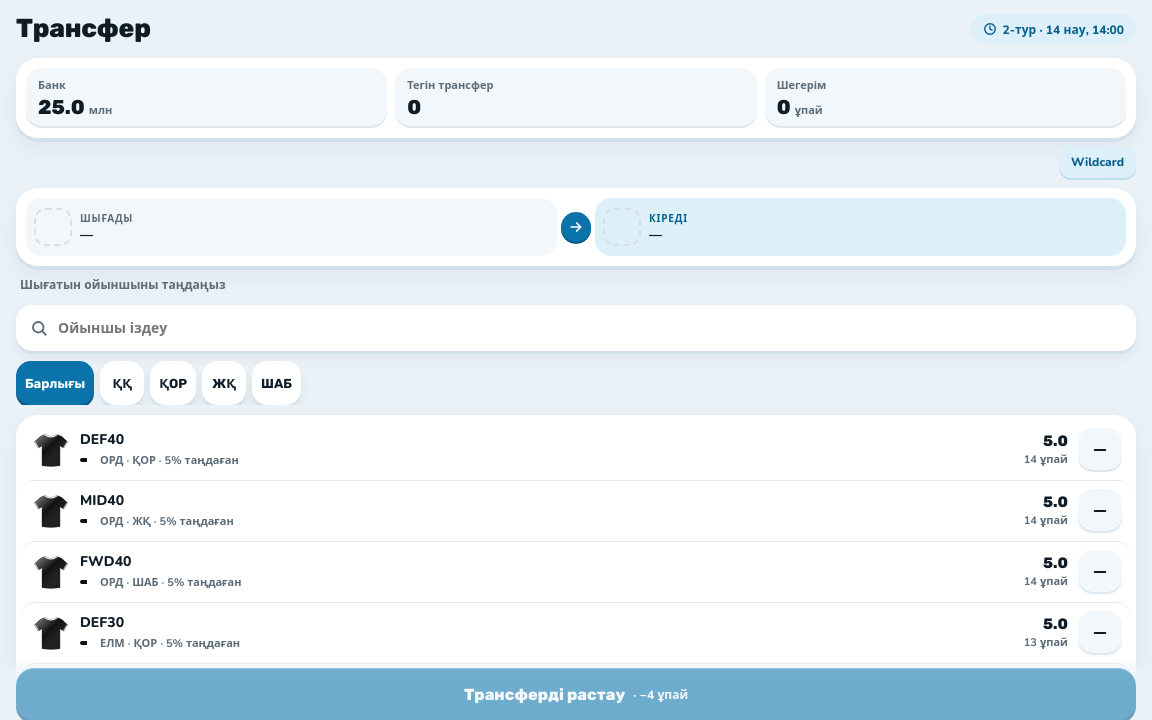
Transfer › Wildcard: «Жоқ» в подтверждении оставляет его выключенным
Click the button "Wildcard": [1097, 162] box [1059,146,1136,178]
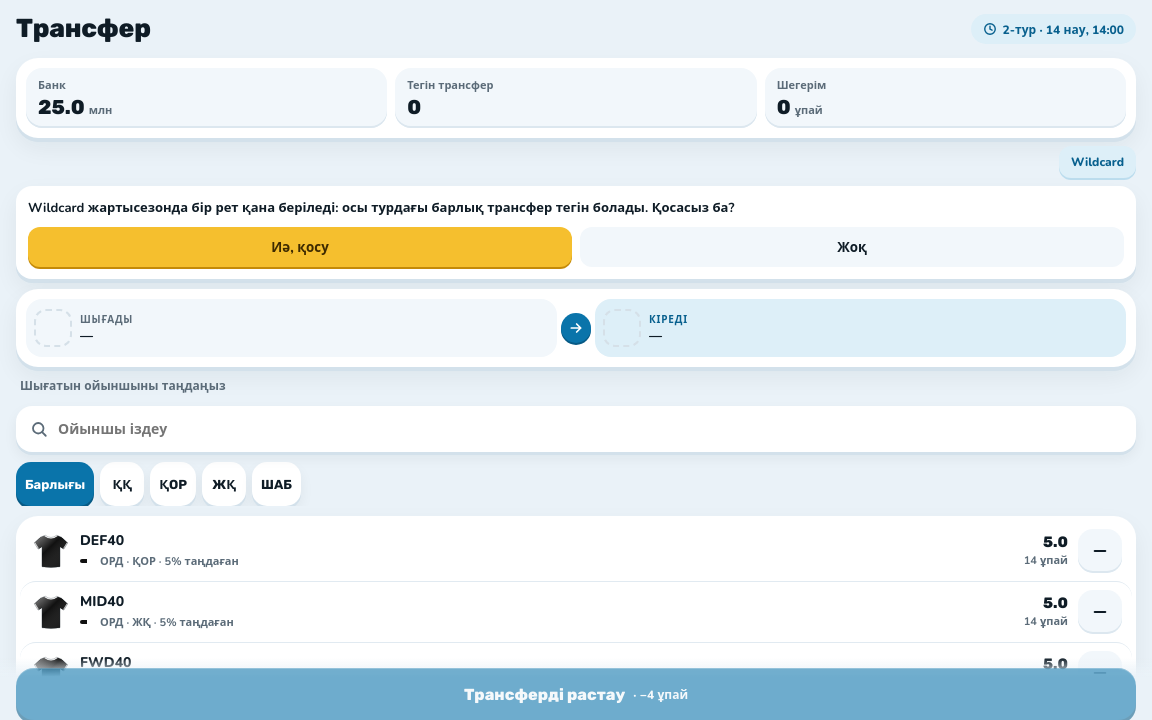
Result: the text "бір рет қана" is shown at [28,199,734,217]
Click the button "Жоқ": [852, 247] box [580,227,1124,267]
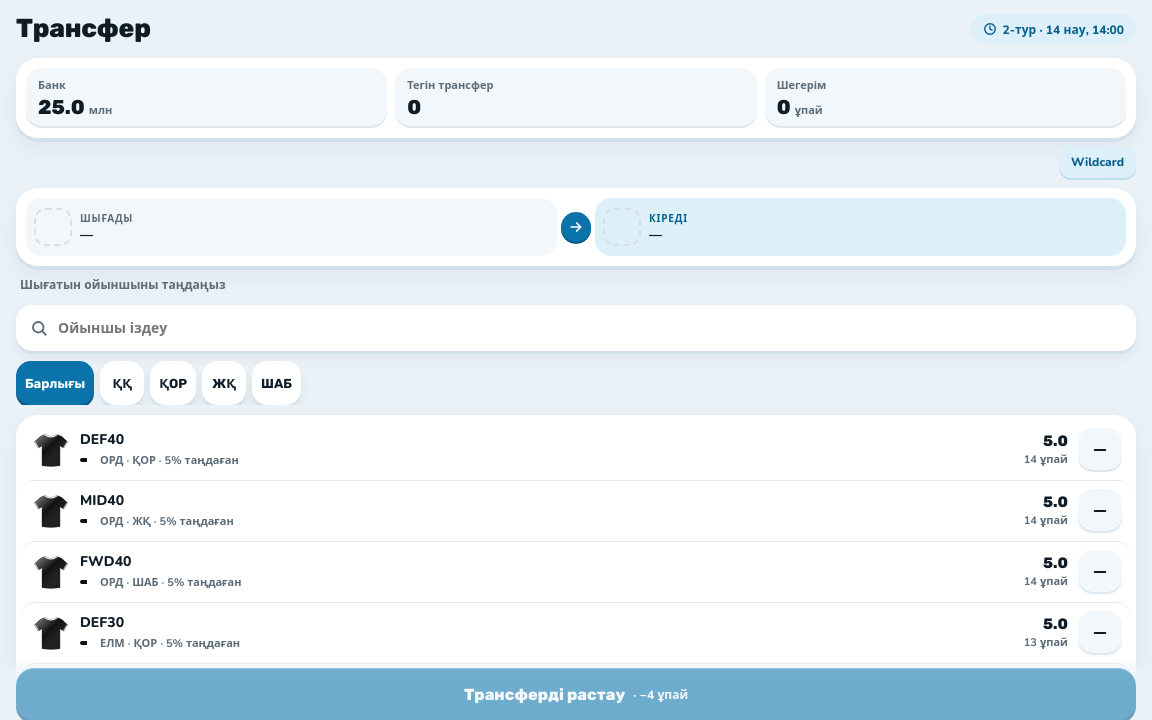
Result: the text "бір рет қана" is gone
